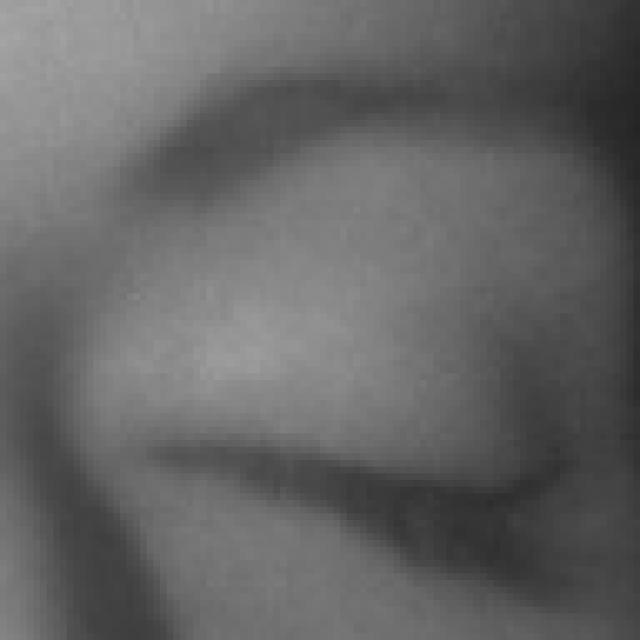Eyeclosed: (155, 276, 559, 640)
